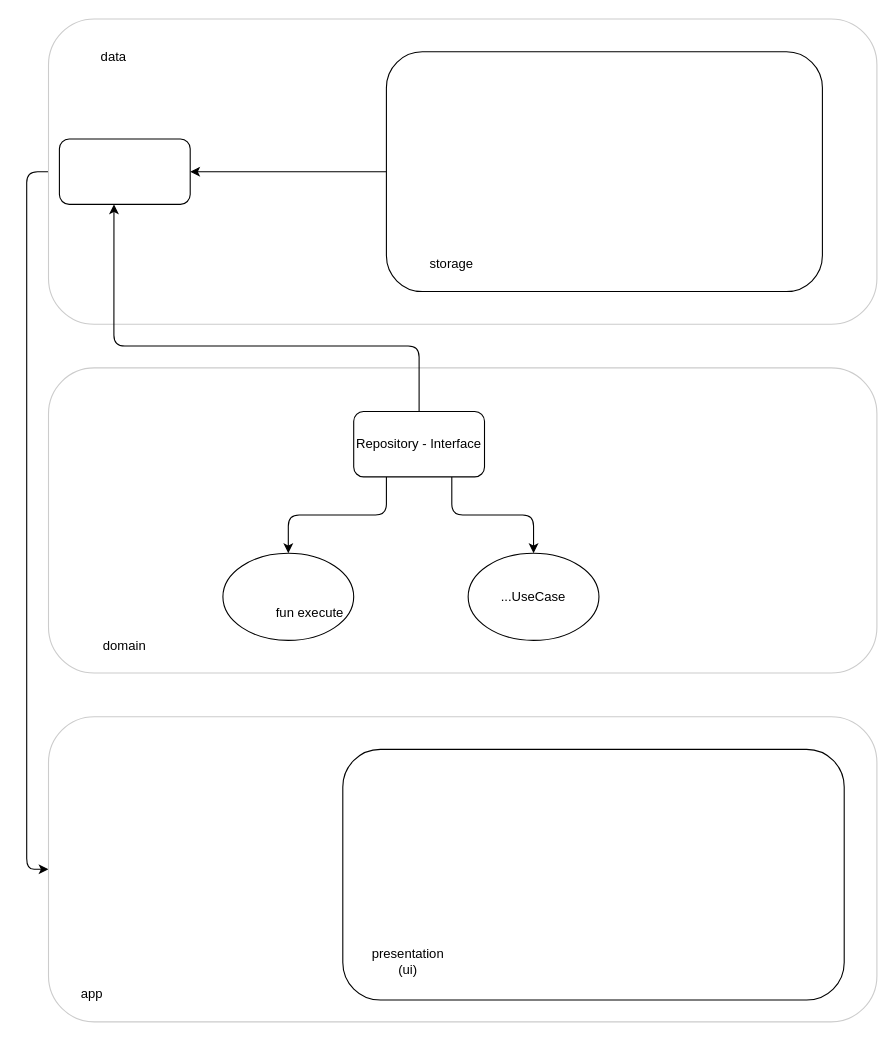
Image size: 896x1041. Some labels were removed from this diagram. The shapes that lost their labels are listed below. From the top down, each one's box as (x1, y1, x2, y2) in pixels, then its label:
(58, 138, 190, 204): RepositoryImpl
(222, 552, 354, 640): UseCase
